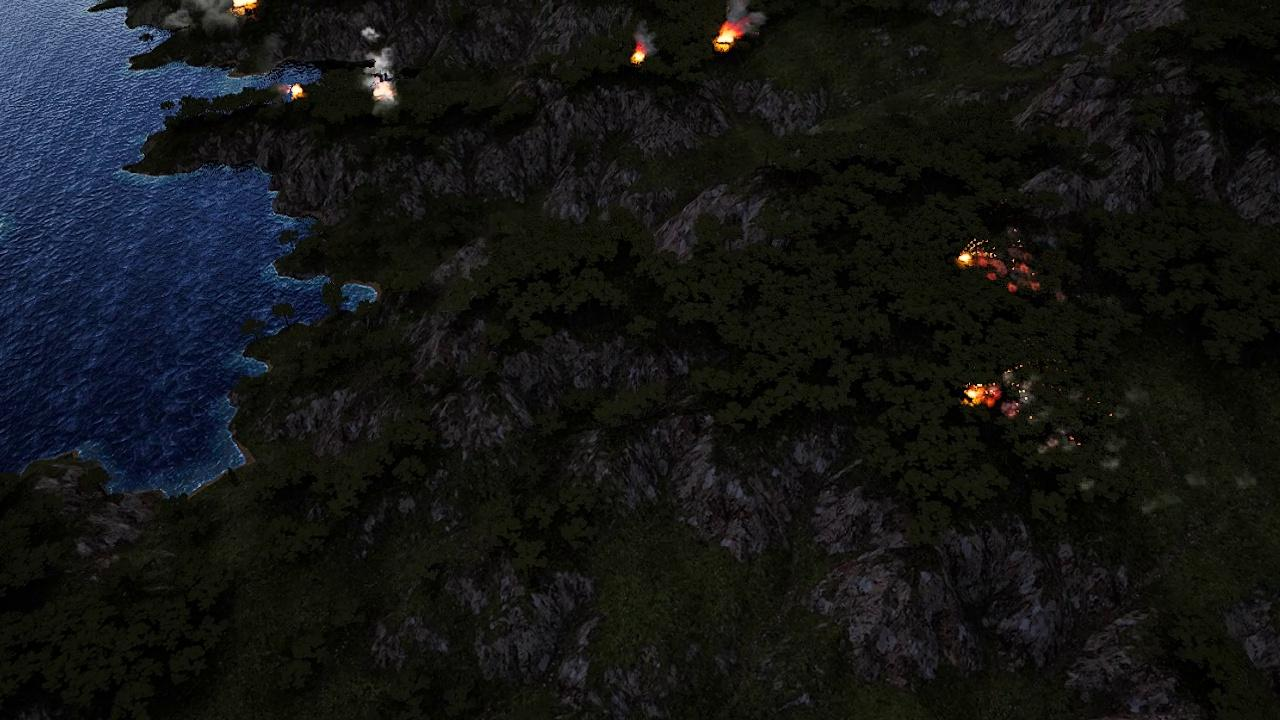fire: (953, 241, 1036, 294), (710, 22, 743, 55), (966, 386, 1003, 408), (629, 41, 650, 63), (234, 0, 262, 15), (288, 83, 307, 102)
smoke: (366, 28, 403, 108), (727, 0, 769, 33)
